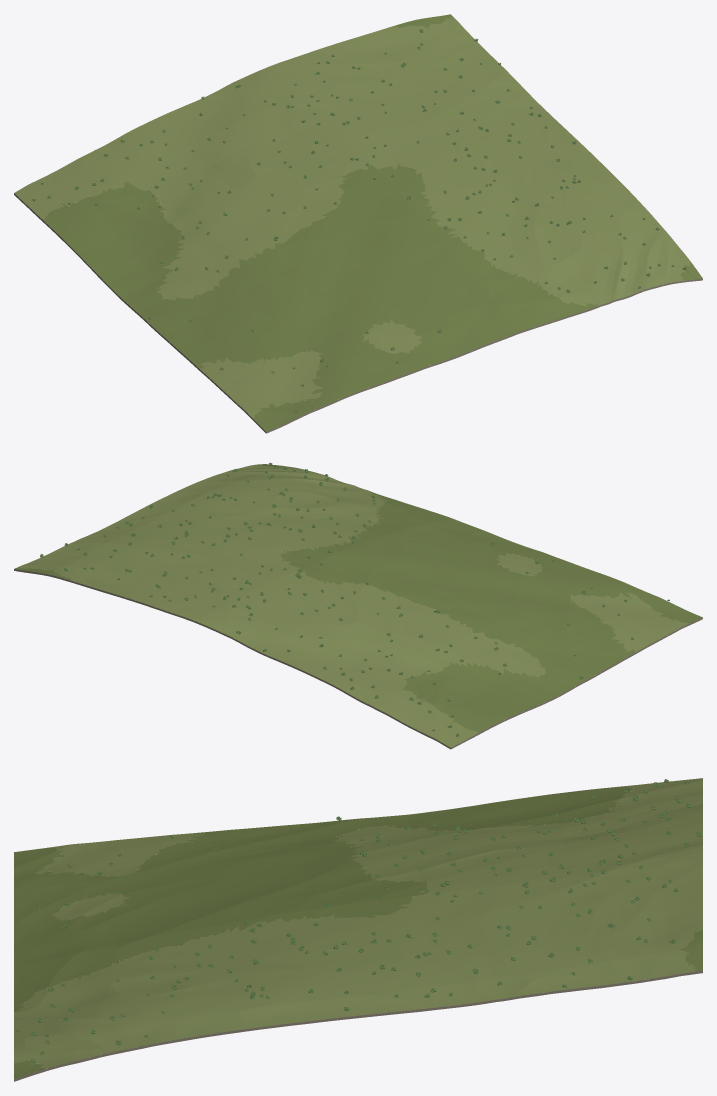
Rendered from parca_+3_-8-yakin.glb.
3 views of the same model, one above another, from view 1: azimuth 30°, elevation 25°; view 2: azimuth 150°, elevation 25°; view 3: azimuth 270°, elevation 25° (orthographic). The views are drawn at different scales.
Visible parts, largest first — view 1: parca_+3_-8_arazi, parca_+3_-8_bitkiler; view 2: parca_+3_-8_arazi, parca_+3_-8_bitkiler; view 3: parca_+3_-8_arazi, parca_+3_-8_bitkiler.
Part boxes in pixels (x1,y1,x2,y2): parca_+3_-8_arazi: (14,14,702,433); parca_+3_-8_bitkiler: (32,23,686,412); parca_+3_-8_arazi: (14,464,702,749); parca_+3_-8_bitkiler: (40,462,669,736); parca_+3_-8_arazi: (14,778,702,1081); parca_+3_-8_bitkiler: (15,779,701,1063).
Bounding box in the file's own units: 1001 × 288 × 1000.
